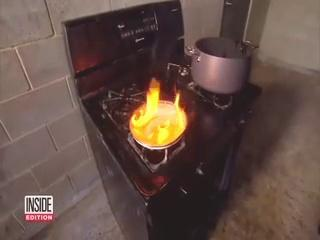Fire: (129, 77, 196, 152)
